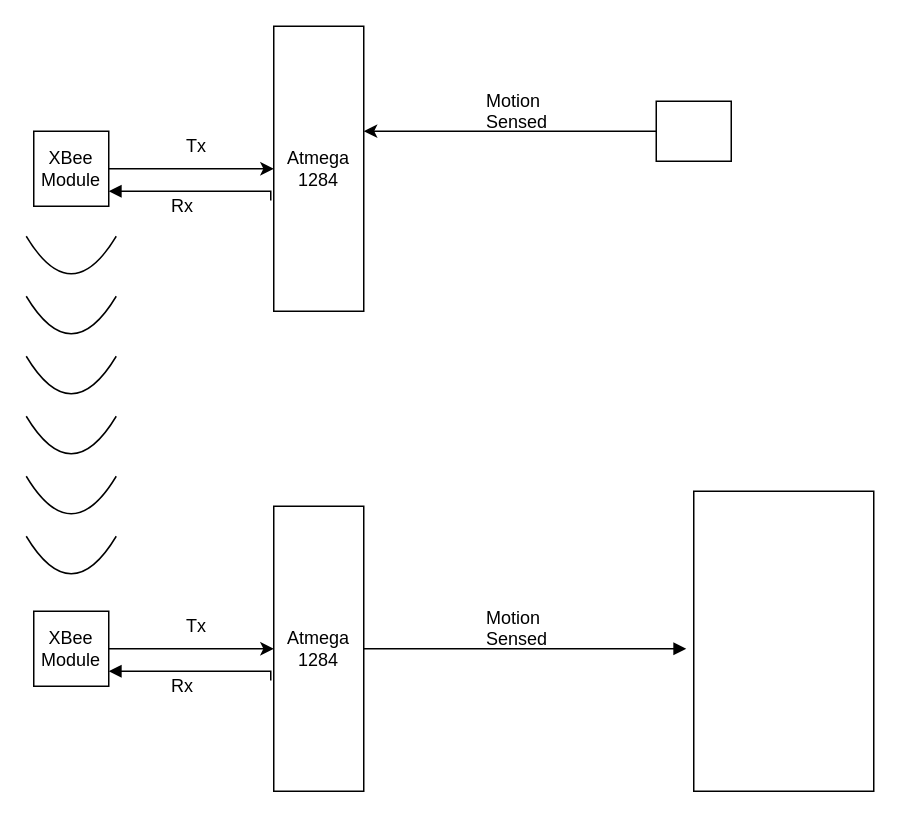
Image size: 900x818. Some labels were removed from this diagram. Here are the shapes that lost their labels. From the top down, the centre of each, then its label:
At point (693, 130): "Motion Sensor".
At point (783, 640): "Raspberry Pi Zero W".
